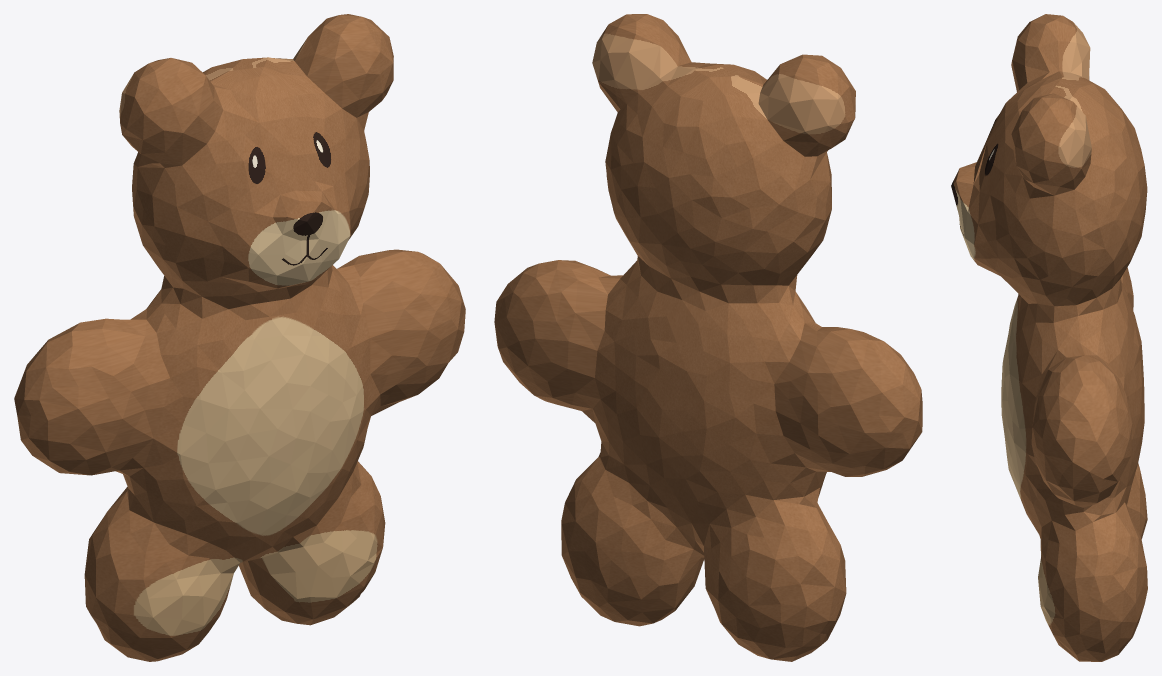
Rendered from bear_uniform_coarse_s51.obj.
3 views of the same model, side by side, from view 1: azimuth 30°, elevation 25°; view 2: azimuth 150°, elevation 25°; view 3: azimuth 270°, elevation 25° (orthographic). The views are drawn at different scales.
Bounding box in the file's own units: 0.1226 × 0.1637 × 0.0515.
1 material, 1 textured.
